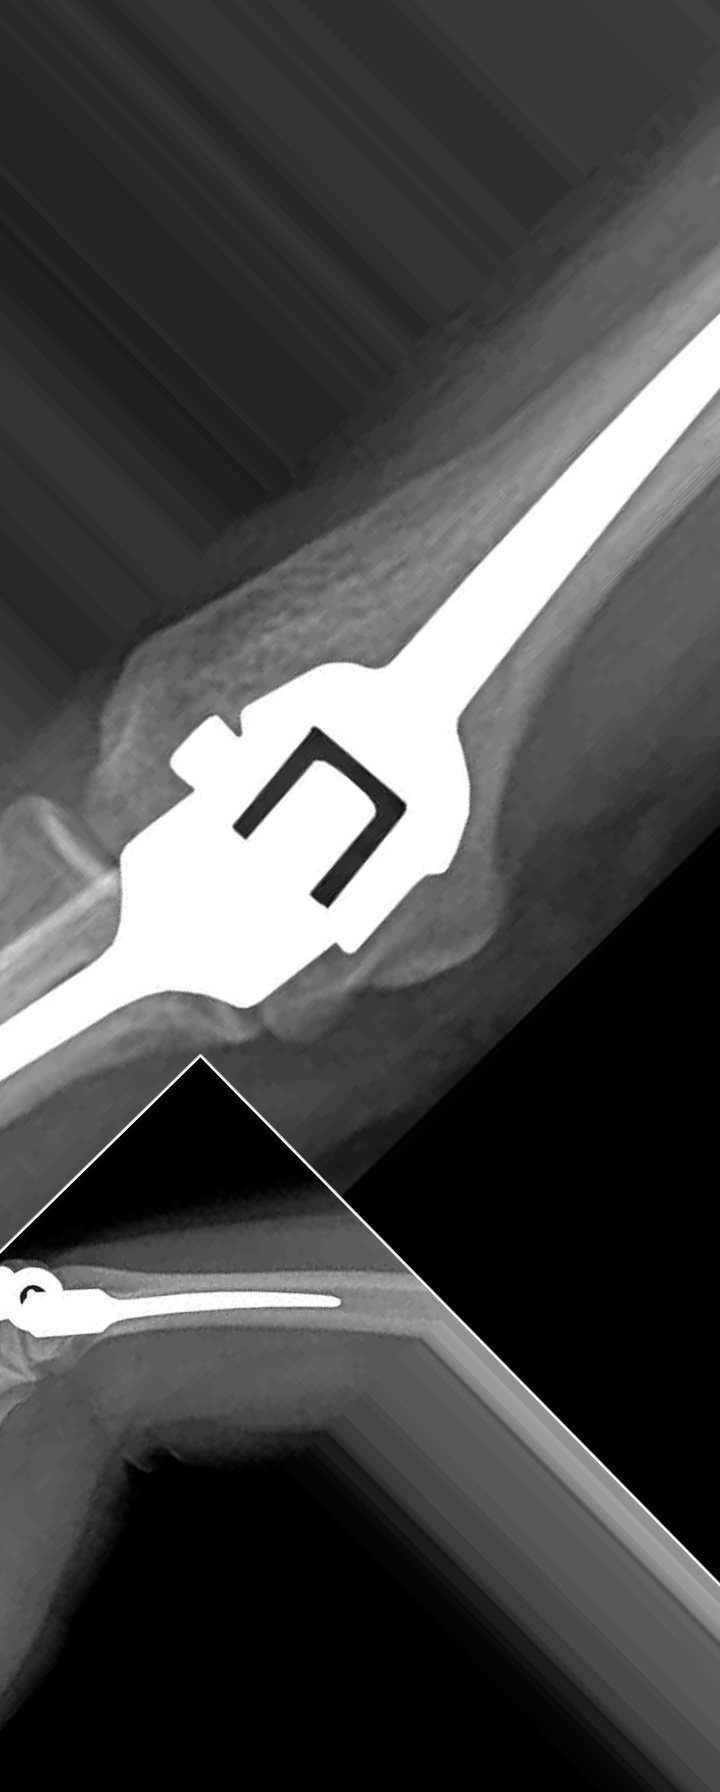Elbow - Osteonics - Stryker: (6, 193, 720, 1047)
